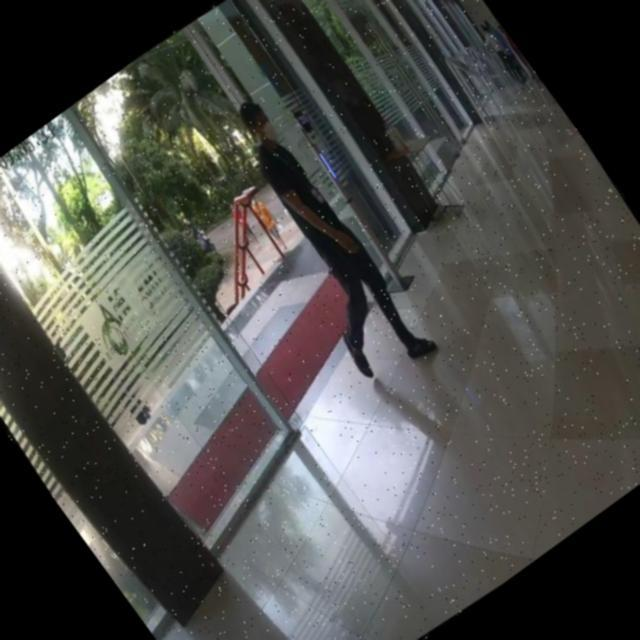person: (190, 80, 446, 383)
